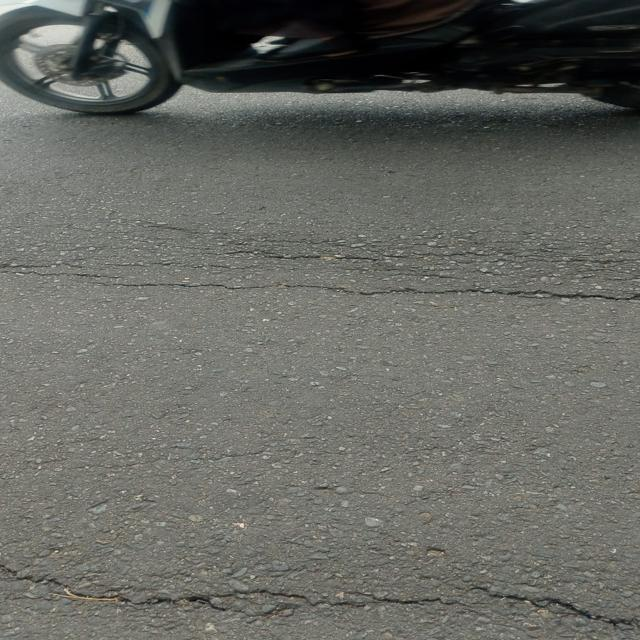Melintang: (0, 549, 640, 633), (0, 254, 640, 320)
